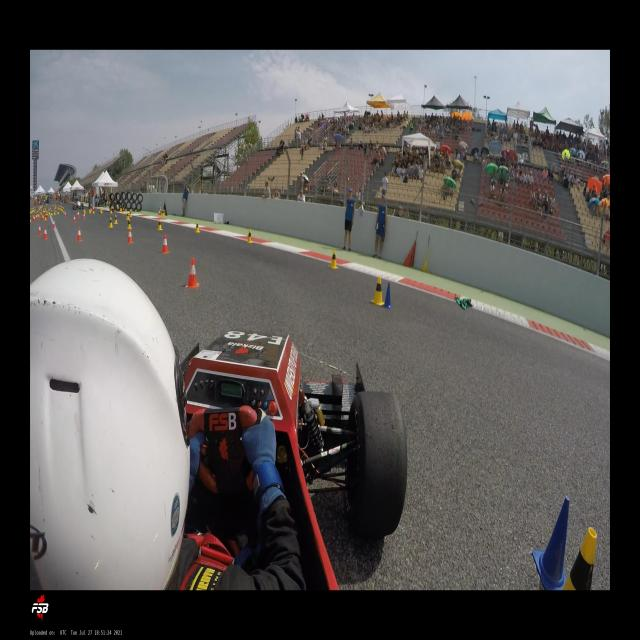orange_cone: (185, 258, 199, 288), (162, 234, 169, 253), (77, 228, 82, 242), (43, 228, 48, 240), (128, 229, 132, 243), (38, 224, 41, 235), (52, 220, 56, 228), (73, 215, 76, 223), (64, 211, 66, 218), (33, 215, 35, 222), (42, 213, 44, 220), (158, 208, 160, 215), (83, 213, 85, 219), (77, 212, 79, 218), (38, 214, 39, 219)
unknown_cone: (532, 496, 569, 590), (382, 282, 392, 309)
yellow_cone: (562, 528, 597, 590), (370, 276, 384, 305), (328, 250, 338, 268), (247, 229, 252, 243), (195, 220, 200, 232), (157, 219, 162, 230), (127, 218, 132, 228), (109, 216, 113, 228), (114, 215, 118, 224), (99, 208, 103, 214), (119, 204, 122, 212), (129, 209, 132, 217), (126, 212, 129, 220), (122, 208, 125, 215), (92, 208, 95, 214), (44, 214, 47, 220), (88, 209, 91, 214), (83, 209, 86, 214), (110, 207, 112, 214), (160, 209, 162, 216), (163, 209, 165, 216), (54, 209, 56, 215), (35, 212, 37, 217), (57, 209, 59, 214), (30, 215, 31, 222), (51, 210, 52, 216), (37, 211, 38, 216), (49, 210, 50, 214)
